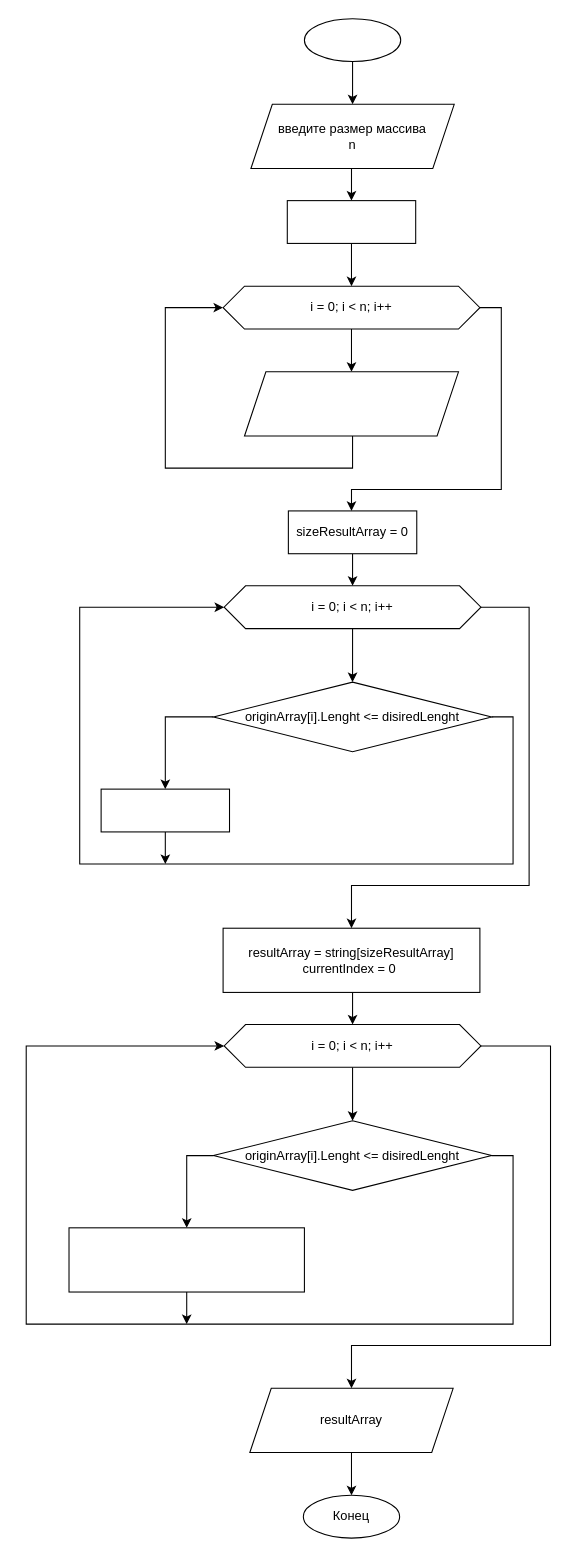
Some shapes in this 578 by 1557 pixel diagram are drawn without their labels. The box of each missing label's shape, as (x1, y1, x2, y2) in pixels:
originArray = string [n] desiredLenght = 3: (286, 200, 416, 243)
resultArray[currentIndex] = originArray[i] currentIndex++: (68, 1227, 304, 1292)
sizeResultArray++: (100, 788, 230, 832)
введите элемент массива i+1 originArray[i]: (243, 371, 458, 436)
начало: (303, 18, 401, 62)
